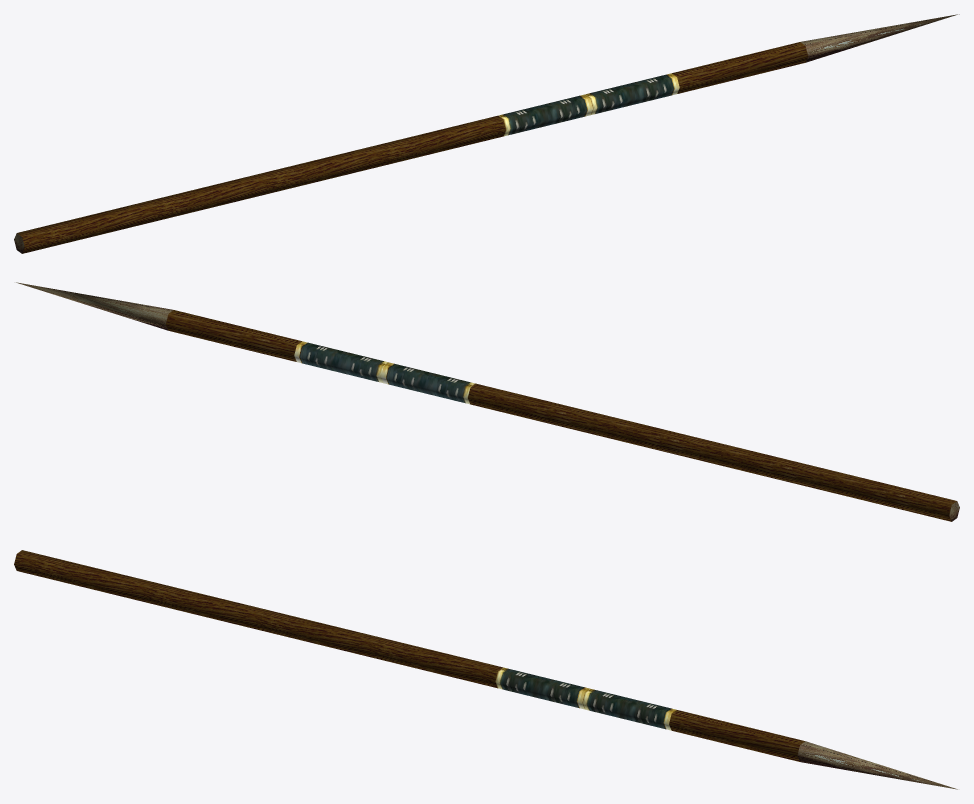
3 views of the same model, one above another, from view 1: azimuth 30°, elevation 25°; view 2: azimuth 150°, elevation 25°; view 3: azimuth 330°, elevation 25° (orthographic).
Parts seen in each view (by area): view 1: it10105; view 2: it10105; view 3: it10105.
Part boxes in pixels (box(x1,y1,x2,y2)): it10105: box(14, 14, 959, 253); it10105: box(16, 282, 959, 521); it10105: box(14, 550, 957, 789).
Bounding box in the file's own units: 5.02 × 0.0864 × 0.1001.
Materials: 3 (3 with a texture image).
